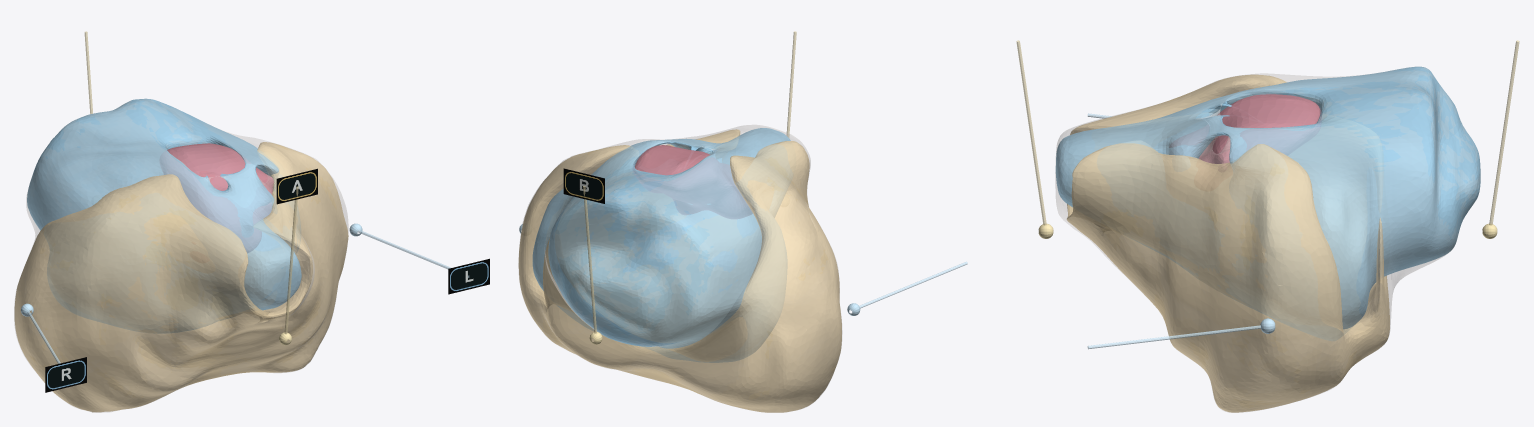
The picture shows the model from 3 angles, left to right: view 1: azimuth 30°, elevation 25°; view 2: azimuth 150°, elevation 25°; view 3: azimuth 270°, elevation 25°; orthographic projection. The views are drawn at different scales.
Visible parts, largest first — view 1: prostate_gland, peripheral_zone, transition_zone, lesion_01, orientation_L_patient_left_label, orientation_R_patient_right_label, orientation_A_apex_label, orientation_A_apex_leader; view 2: prostate_gland, transition_zone, peripheral_zone, lesion_01, orientation_B_base_label, orientation_B_base_leader; view 3: prostate_gland, transition_zone, peripheral_zone, lesion_01, orientation_A_apex_leader, orientation_B_base_leader, orientation_L_patient_left_leader.
Part boxes in pixels (x1,y1,x2,y2): prostate_gland: [14, 99, 348, 412]; peripheral_zone: [14, 142, 348, 412]; transition_zone: [27, 98, 301, 332]; lesion_01: [160, 143, 273, 252]; orientation_L_patient_left_label: [448, 258, 489, 294]; orientation_R_patient_right_label: [45, 357, 86, 392]; orientation_A_apex_label: [276, 168, 317, 204]; orientation_A_apex_leader: [284, 186, 298, 334]; prostate_gland: [518, 125, 842, 412]; transition_zone: [532, 128, 792, 362]; peripheral_zone: [518, 129, 841, 412]; lesion_01: [633, 145, 752, 218]; orientation_B_base_label: [563, 168, 604, 203]; orientation_B_base_leader: [583, 186, 596, 333]; prostate_gland: [1055, 67, 1480, 412]; transition_zone: [1055, 66, 1480, 340]; peripheral_zone: [1066, 74, 1389, 412]; lesion_01: [1169, 94, 1321, 172]; orientation_A_apex_leader: [1016, 40, 1046, 225]; orientation_B_base_leader: [1489, 40, 1519, 225]; orientation_L_patient_left_leader: [1087, 325, 1261, 349].
Size of the model in its own units: 0.0811 by 0.0516 by 0.0673.
Materials: 12 (4 with a texture image).
